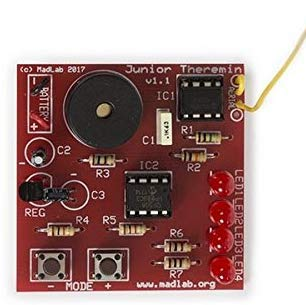Capacitor: (42, 186, 72, 203), (29, 150, 48, 168)
LED: (209, 256, 236, 285), (208, 199, 235, 227), (208, 170, 234, 198), (208, 227, 234, 255)
Resistor: (163, 256, 191, 270), (180, 148, 206, 163), (195, 131, 222, 145), (164, 240, 193, 253), (117, 223, 146, 236), (45, 225, 75, 237), (88, 153, 115, 166)
